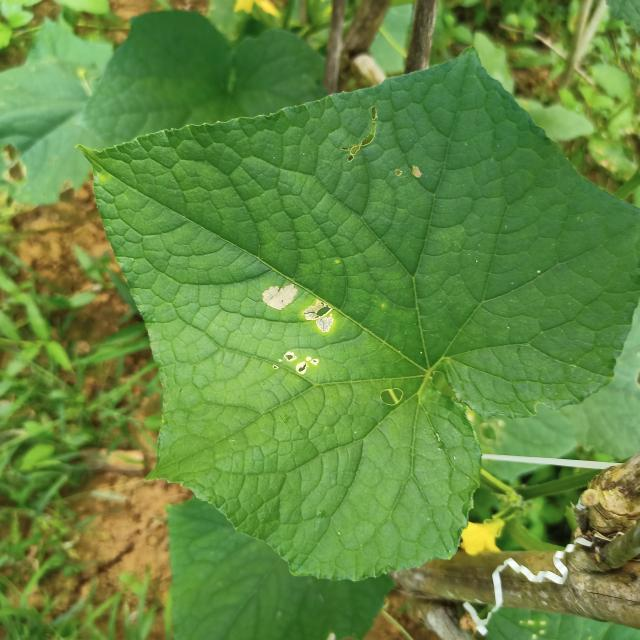disease_cucumber: (259, 280, 337, 382)
